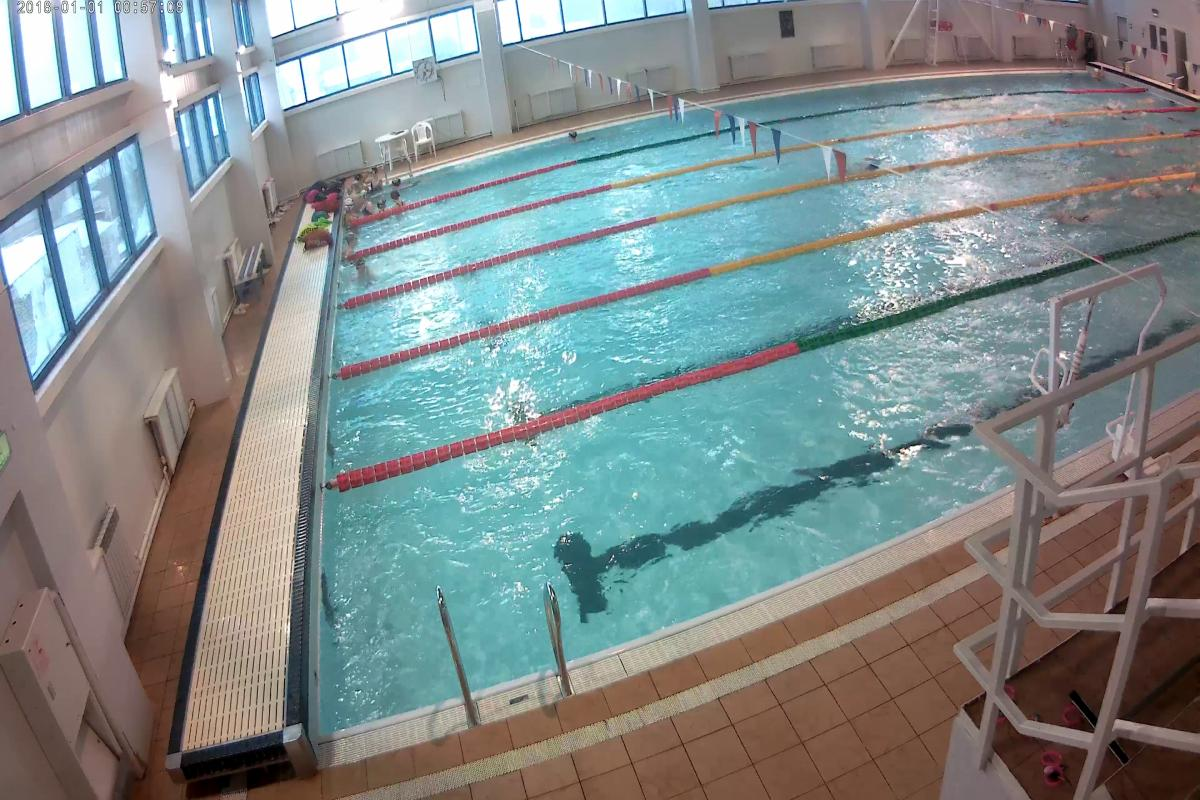swimmer: (346, 260, 378, 282)
